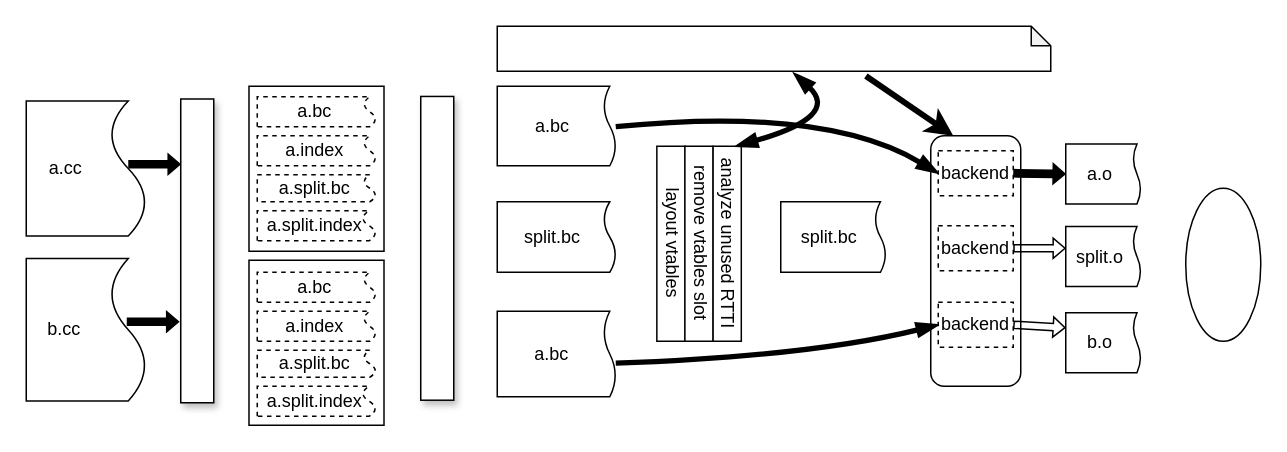
This 1287x452 diagram has some shape labels left out. Here are the shapes that lost their labels. From the top down, the centre of each, then its label:
(773,48): Combined Summary
(198,252): compile
(438,250): merge split bc and summary index
(1222,264): exe
